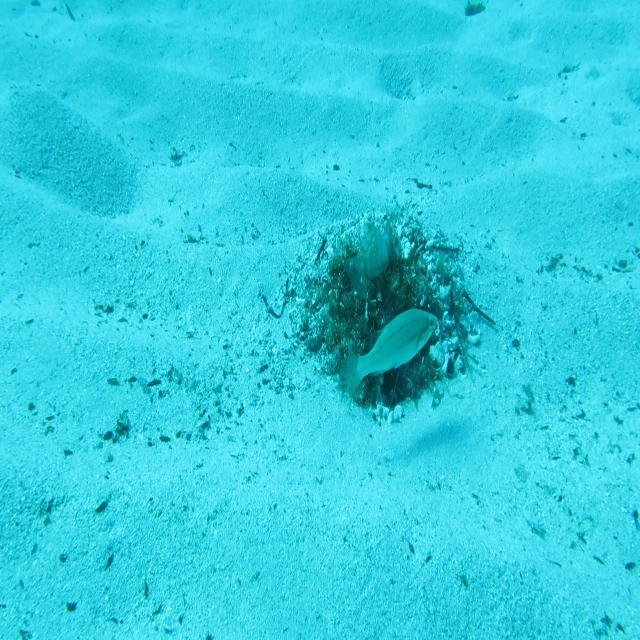NIP_CORE: (340, 215, 396, 302)
core_nest: (364, 233, 420, 278)
female: (338, 306, 440, 408)
nest: (281, 203, 485, 434)
vegetation: (460, 0, 490, 17)
